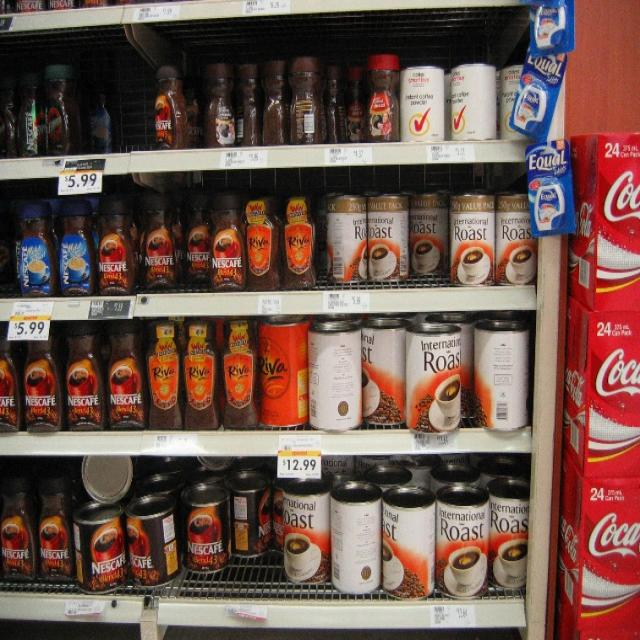q13: (52, 325, 100, 434), (12, 327, 61, 431), (34, 473, 76, 581), (105, 332, 145, 430), (136, 206, 178, 295), (205, 203, 248, 285), (94, 210, 134, 297), (0, 478, 34, 576)
